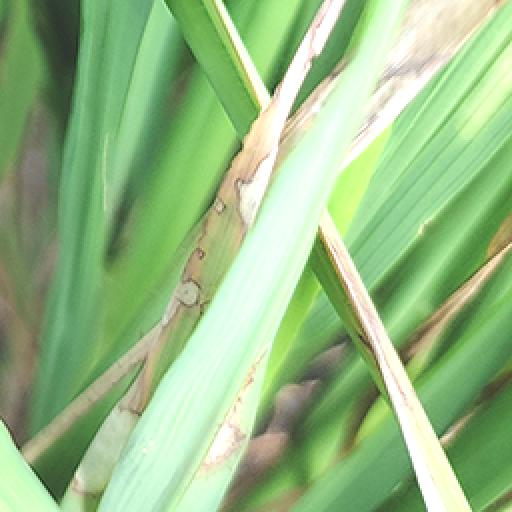Leaf Blast Disease: (126, 106, 302, 418), (274, 0, 510, 170), (326, 234, 460, 506), (376, 240, 512, 378), (202, 350, 270, 472)
